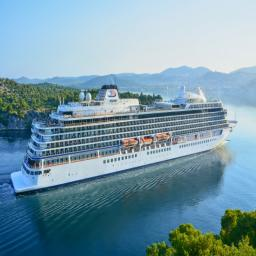cruises: (10, 83, 239, 200)
